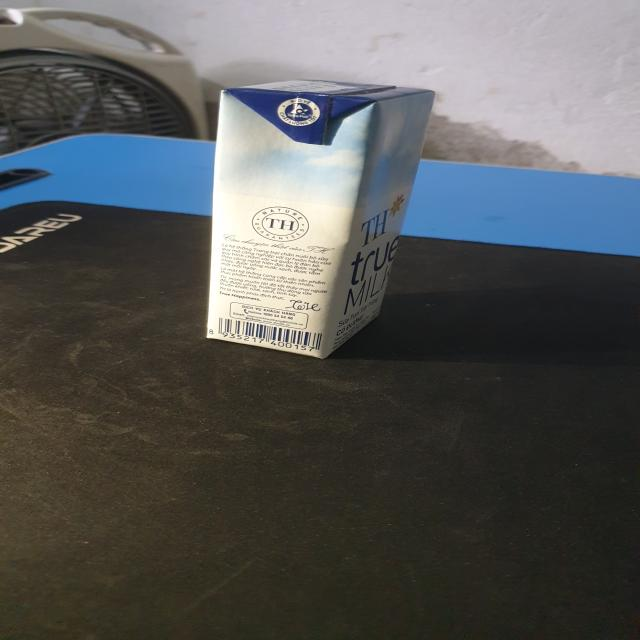TH: (196, 76, 444, 364)
